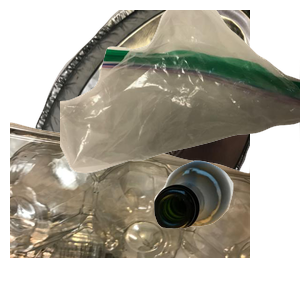glass: (151, 158, 300, 300)
metal: (18, 10, 258, 190)
plastic: (10, 120, 250, 300)
trash: (60, 10, 300, 176)
